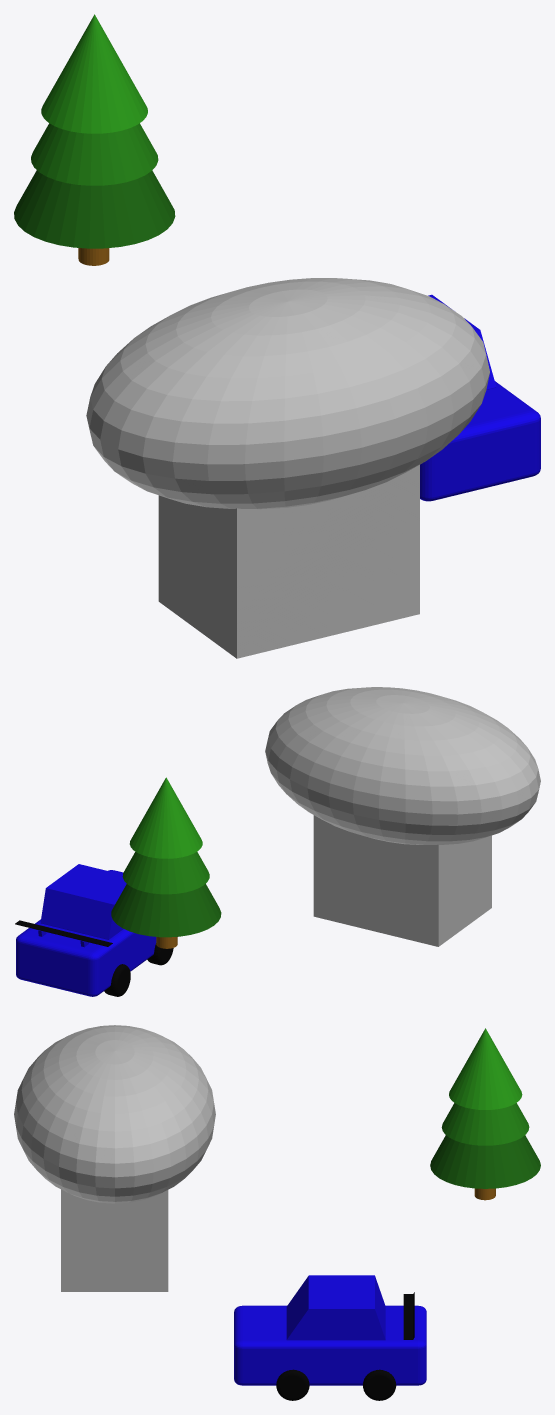
3 renders of one model, top to bottom at view 1: azimuth 30°, elevation 25°; view 2: azimuth 150°, elevation 25°; view 3: azimuth 270°, elevation 25°, orthographic. The views are drawn at different scales.
Visible parts, largest first — view 1: 球, 立方体.004, 円錐.002, 立方体, 円錐, 円錐.001; view 2: 球, 立方体.004, 立方体, 円錐.002, 円錐, 円錐.001, 円柱.002, 立方体.003; view 3: 球, 立方体, 立方体.004, 円錐.002, 円錐, 円錐.001, 円柱.001, 円柱.003, 立方体.003.
Part boxes in pixels (bbox=[...]): 球: bbox=[86, 278, 489, 509]; 立方体.004: bbox=[158, 465, 419, 658]; 円錐.002: bbox=[14, 170, 175, 248]; 立方体: bbox=[420, 294, 540, 501]; 円錐: bbox=[41, 14, 147, 133]; 円錐.001: bbox=[31, 123, 158, 185]; 球: bbox=[265, 687, 540, 844]; 立方体.004: bbox=[313, 815, 491, 946]; 立方体: bbox=[16, 864, 156, 996]; 円錐.002: bbox=[111, 883, 221, 937]; 円錐: bbox=[129, 777, 202, 858]; 円錐.001: bbox=[122, 852, 209, 894]; 円柱.002: bbox=[104, 964, 130, 996]; 立方体.003: bbox=[15, 920, 112, 946]; 球: bbox=[14, 1025, 215, 1203]; 立方体: bbox=[234, 1275, 426, 1385]; 立方体.004: bbox=[61, 1189, 168, 1291]; 円錐.002: bbox=[430, 1135, 540, 1188]; 円錐: bbox=[449, 1028, 522, 1109]; 円錐.001: bbox=[441, 1103, 529, 1145]; 円柱.001: bbox=[276, 1369, 309, 1400]; 円柱.003: bbox=[362, 1369, 396, 1400]; 立方体.003: bbox=[403, 1292, 414, 1339].
Size of the model in its own units: 11.52 by 8.41 by 14.22.
